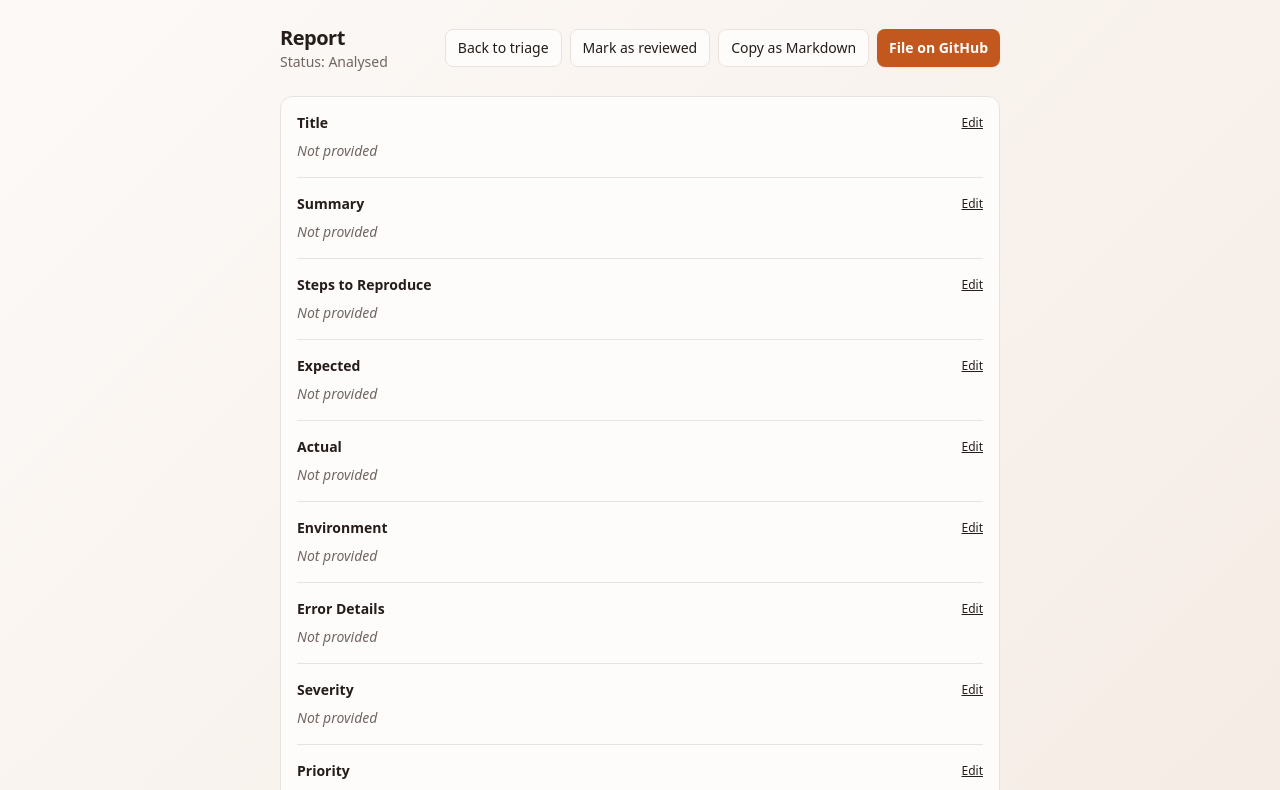
GeneratedReport › copies the Markdown with one click and records the export
Click the button "Copy as Markdown". click: (794,48)
box: [718,29,869,67]
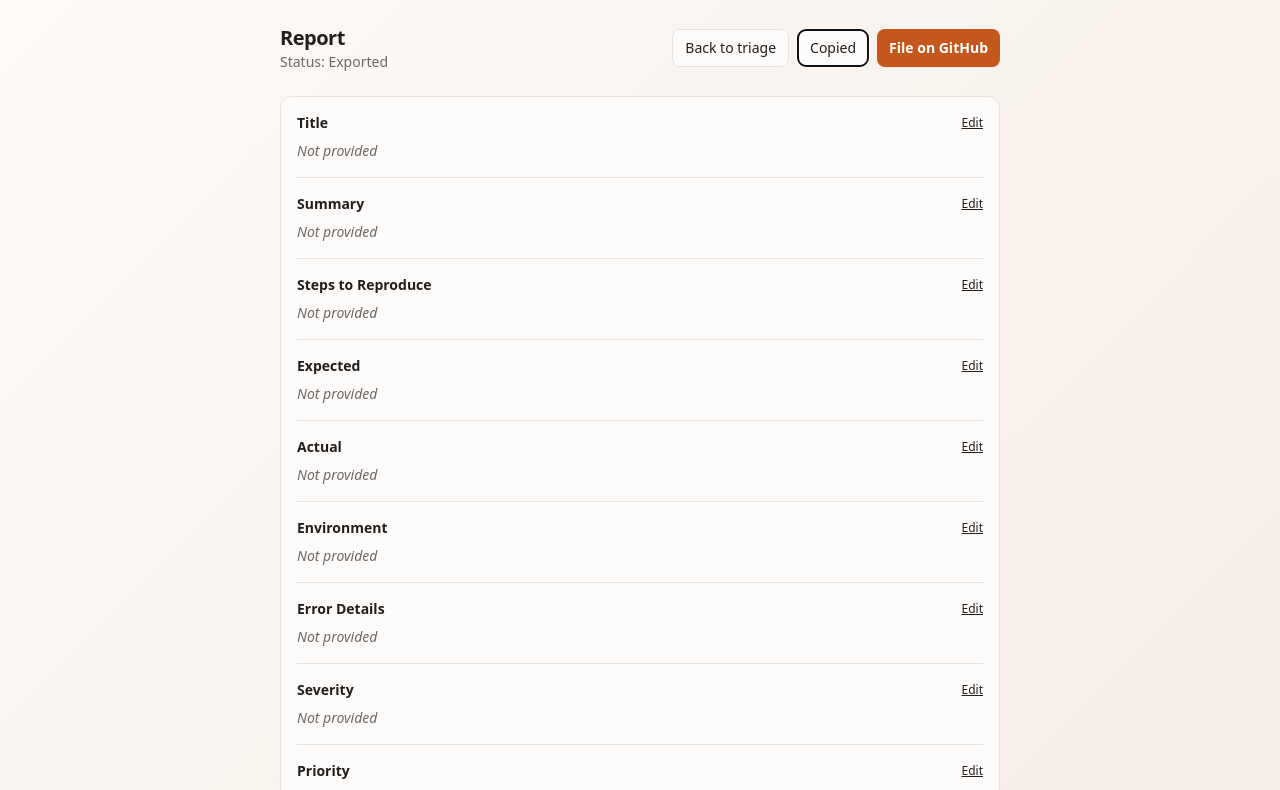
Now the button "Copied" is shown, box [797,29,869,67]
